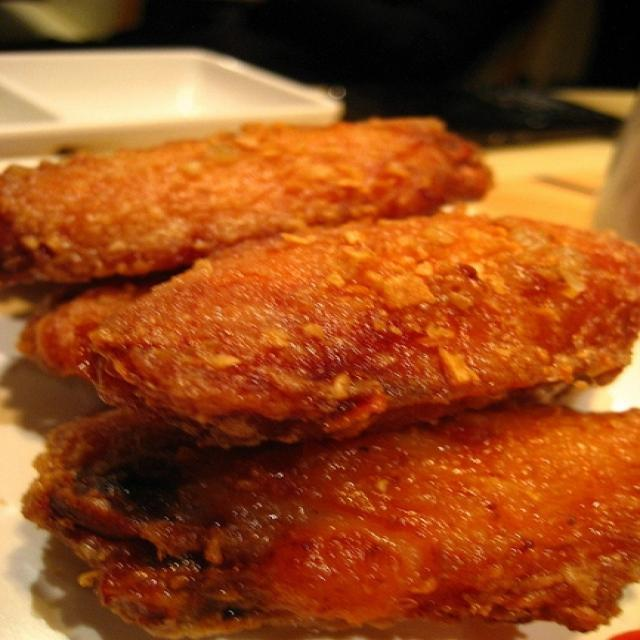Deep fried chicken wing: (20, 122, 617, 630)
